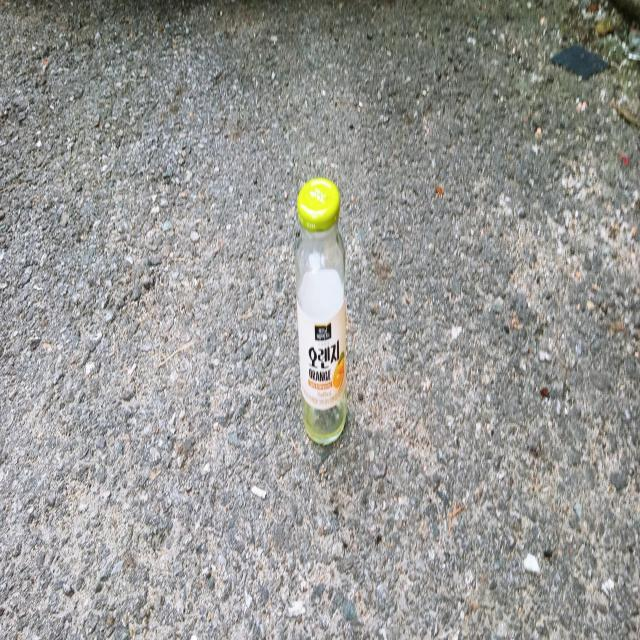glass: (295, 175, 347, 444)
